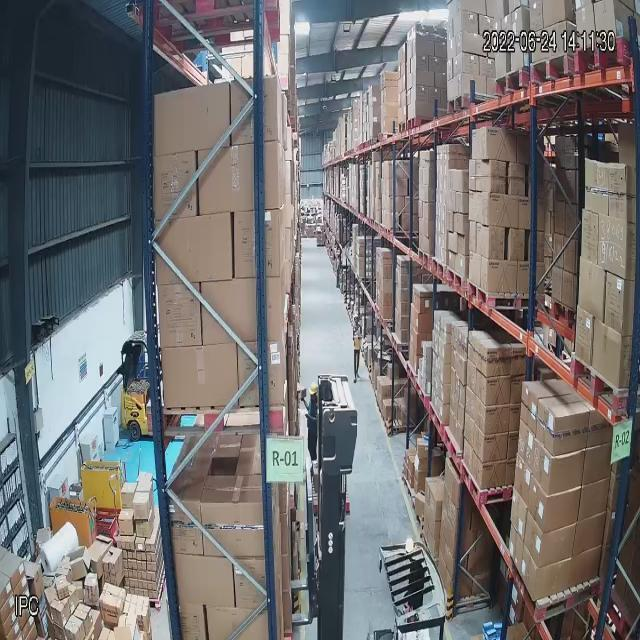box: (153, 84, 231, 149), (197, 150, 280, 209), (153, 217, 232, 277), (200, 283, 281, 339), (161, 349, 239, 405), (200, 504, 266, 556), (176, 554, 236, 609), (232, 211, 279, 273), (231, 81, 281, 139), (157, 285, 202, 344), (153, 156, 198, 214), (535, 439, 586, 488), (540, 399, 592, 447), (524, 547, 576, 591), (594, 316, 626, 387), (527, 511, 576, 557), (532, 480, 580, 523), (578, 256, 605, 317), (236, 561, 266, 606), (606, 272, 626, 334), (585, 160, 608, 212), (99, 580, 127, 620), (609, 161, 627, 220), (487, 195, 518, 227), (577, 307, 594, 363), (486, 129, 517, 159), (488, 262, 517, 293), (104, 545, 126, 585), (125, 595, 151, 628), (425, 475, 443, 517), (66, 548, 92, 576), (487, 377, 511, 404), (487, 349, 511, 375), (486, 410, 509, 434), (484, 437, 508, 460), (482, 462, 506, 485), (509, 231, 525, 262), (489, 230, 504, 260), (509, 162, 523, 194), (133, 493, 150, 519), (491, 161, 505, 192), (117, 512, 135, 536), (463, 75, 486, 93), (54, 575, 70, 599), (416, 36, 435, 54), (389, 178, 408, 196), (463, 54, 480, 74), (85, 575, 98, 601), (121, 485, 137, 506), (414, 103, 435, 116), (387, 161, 404, 177), (417, 71, 435, 86), (418, 314, 432, 333), (419, 291, 432, 311), (389, 197, 405, 213), (416, 53, 429, 70), (383, 72, 398, 86), (415, 86, 429, 100), (384, 104, 398, 118), (384, 89, 398, 102), (387, 364, 399, 379), (382, 279, 393, 294), (382, 263, 392, 279), (430, 57, 441, 71), (382, 294, 393, 307), (385, 120, 397, 129), (402, 260, 409, 275), (401, 289, 409, 302), (135, 542, 144, 553)
